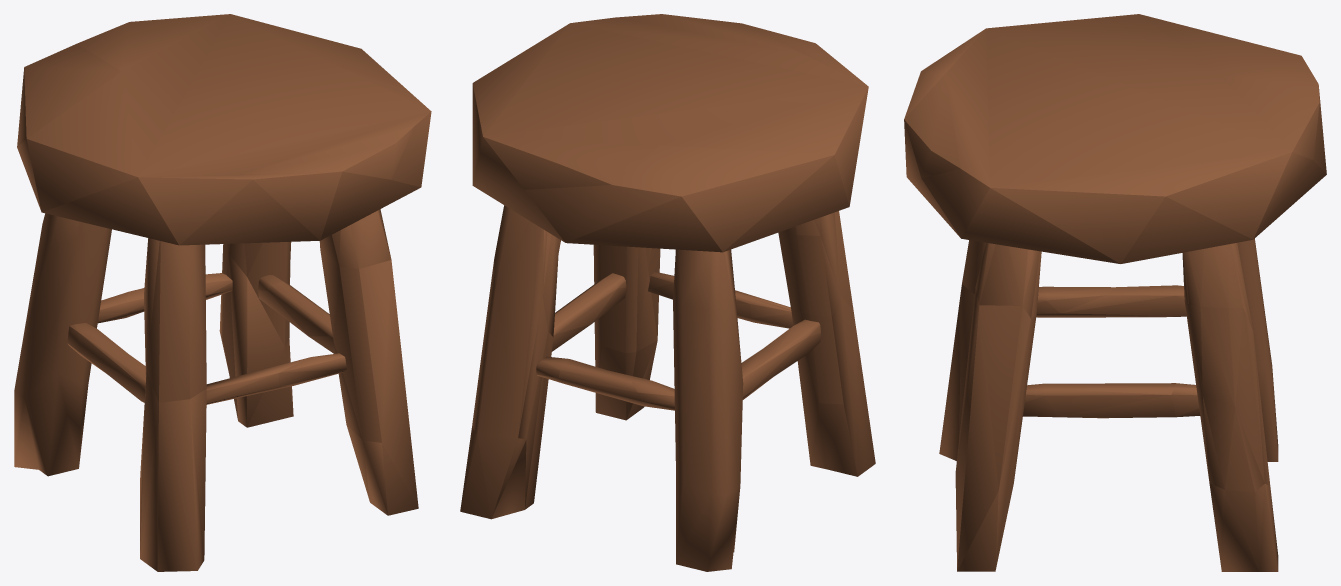
The model's file is chair.gltf.
3 renders of one model, left to right at view 1: azimuth 30°, elevation 25°; view 2: azimuth 150°, elevation 25°; view 3: azimuth 270°, elevation 25°, orthographic. The views are drawn at different scales.
Visible parts, largest first — view 1: body; view 2: body; view 3: body.
Part boxes in pixels (<box>): body: <box>14,14,431,571</box>; body: <box>460,14,875,571</box>; body: <box>904,14,1326,571</box>.
Bounding box in the file's own units: 4.19 × 4.4 × 4.12.
